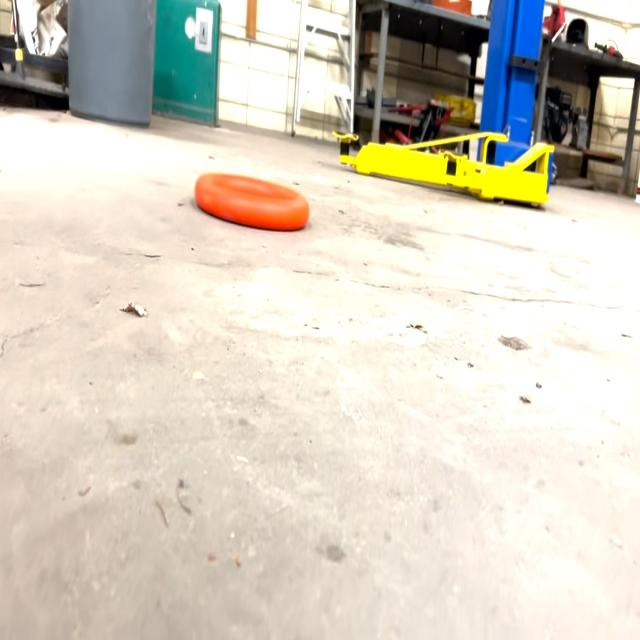note: (194, 164, 312, 238)
